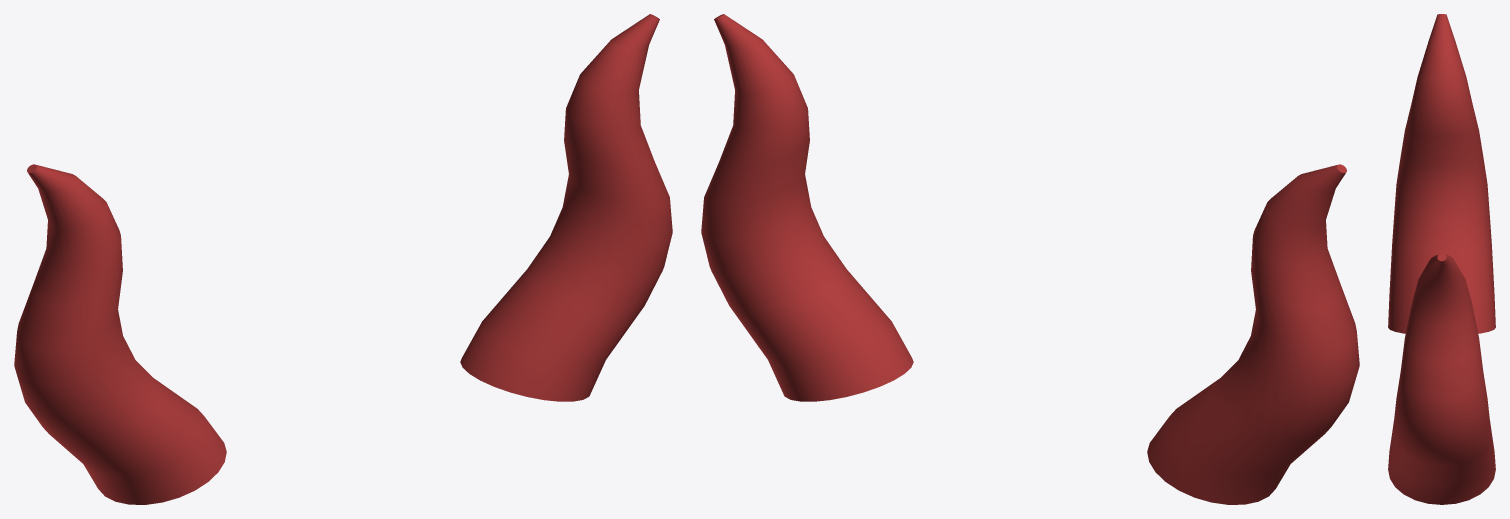
File: Devil Horns.fbx
3 views of the same model, side by side, from view 1: azimuth 30°, elevation 25°; view 2: azimuth 150°, elevation 25°; view 3: azimuth 270°, elevation 25° (orthographic). The views are drawn at different scales.
Parts seen in each view (by area): view 1: Devil Horns; view 2: Devil Horns; view 3: Devil Horns.
Part boxes in pixels (bbox=[...]): Devil Horns: bbox=[14, 14, 672, 504]; Devil Horns: bbox=[701, 14, 1359, 504]; Devil Horns: bbox=[1388, 14, 1495, 504].
Bounding box in the file's own units: 170 × 88.1 × 30.95.
